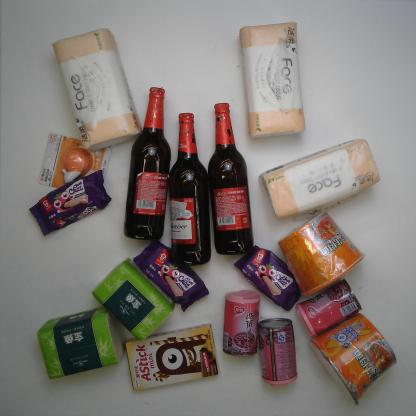Alcohol: (204, 100, 257, 256), (123, 86, 172, 240), (166, 112, 212, 268)
Canned Food: (296, 279, 363, 338), (254, 315, 299, 387), (219, 290, 262, 358)
Dessert: (122, 324, 220, 391), (131, 240, 211, 314), (29, 169, 112, 236), (233, 244, 306, 310)
Instant Noodles: (311, 312, 398, 406), (277, 210, 367, 297)
Stationery: (36, 132, 113, 192)
Tissue: (50, 27, 144, 152), (259, 139, 382, 219), (236, 22, 307, 140), (91, 256, 177, 342), (36, 308, 126, 380)
